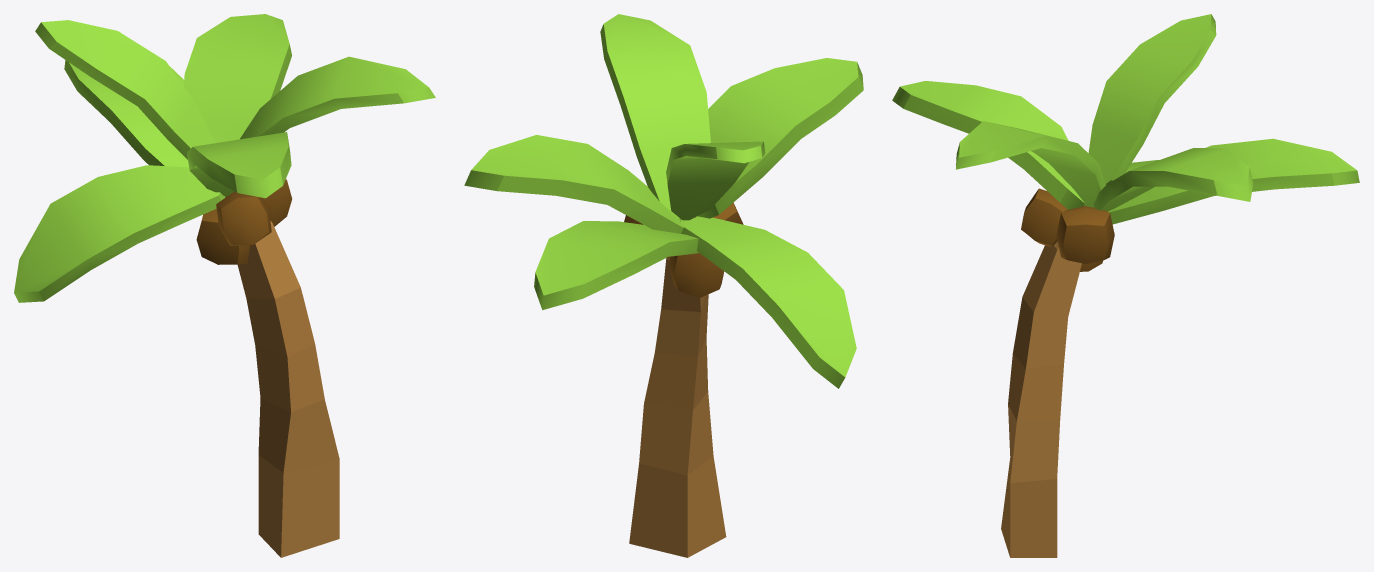
Rendered from palm.gltf.
3 views of the same model, side by side, from view 1: azimuth 30°, elevation 25°; view 2: azimuth 150°, elevation 25°; view 3: azimuth 270°, elevation 25° (orthographic). The views are drawn at different scales.
Parts seen in each view (by area): view 1: pCube1, pCube3, pCube7, pCube6, pCube4, pCube5, pCube2, pCube10, pCube9, pCube8; view 2: pCube1, pCube3, pCube4, pCube5, pCube7, pCube2, pCube6, pCube9; view 3: pCube1, pCube6, pCube5, pCube2, pCube7, pCube4, pCube8, pCube10.
Part boxes in pixels (x1,y1,x2,y2): pCube1: (225,196,339,557); pCube3: (14,165,225,302); pCube7: (184,14,291,142); pCube6: (35,20,215,159); pCube4: (240,56,435,139); pCube5: (187,132,291,198); pCube2: (64,60,188,167); pCube10: (216,191,271,245); pCube9: (196,209,249,264); pCube8: (262,179,292,226); pCube1: (629,217,726,557); pCube3: (679,216,856,388); pCube4: (600,14,710,218); pCube5: (697,58,863,218); pCube7: (464,135,684,233); pCube2: (534,221,698,310); pCube6: (666,141,765,220); pCube9: (669,253,724,298); pCube1: (1001,205,1093,557); pCube6: (1088,14,1216,184); pCube5: (892,81,1084,209); pCube2: (1108,138,1359,224); pCube7: (1093,148,1253,211); pCube4: (956,121,1105,207); pCube8: (1056,206,1114,263); pCube10: (1021,188,1067,246).
Bounding box in the file's own units: 6.24 × 9 × 8.36.
